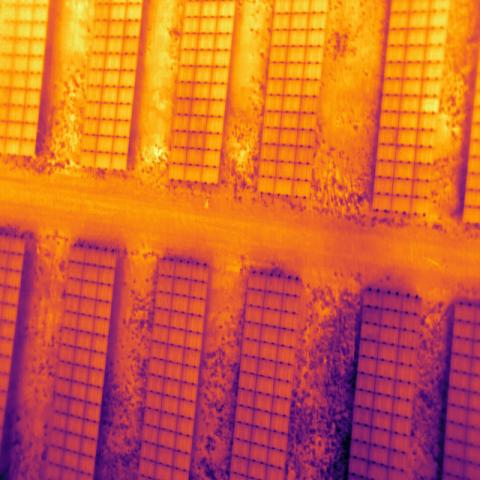fault: (419, 96, 439, 114)
